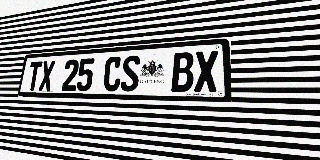2: (62, 59, 79, 91)
5: (76, 58, 95, 91)
B: (171, 52, 194, 92)
C: (103, 56, 122, 91)
S: (120, 55, 141, 91)
T: (26, 61, 43, 91)
X: (194, 50, 218, 92), (38, 60, 55, 91)
